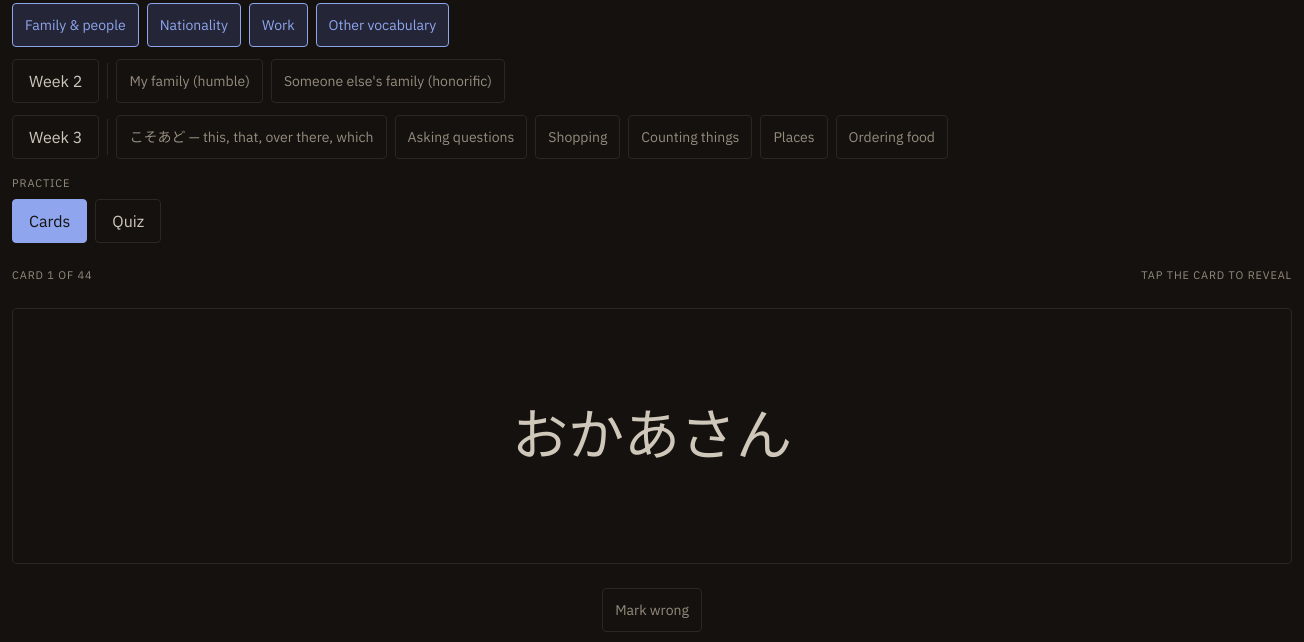
Test: Vocabulary flashcards › starts each new card face down
This screenshot has width=1304, height=642.
Click the button "おかあさん おかあさん okaasan Mom" at (652,436), box [12,308,1292,564]
(page scrolled)
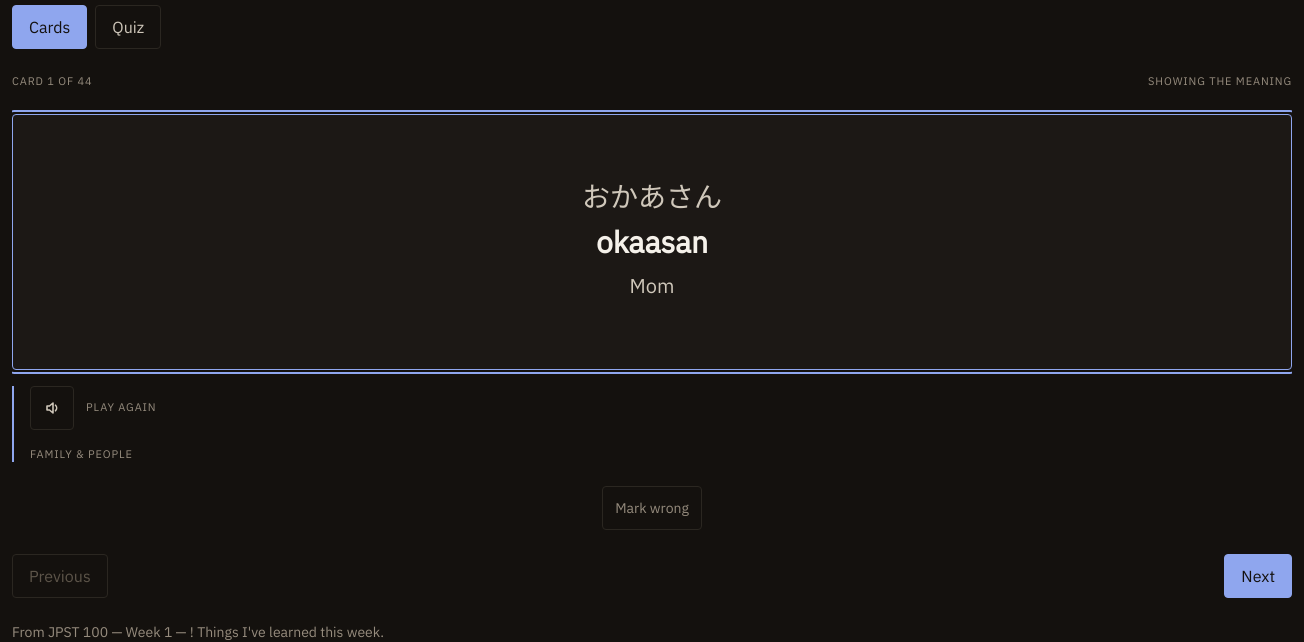
Click the button "Next" at (1258,576), box [1224,554,1292,598]
(page scrolled)
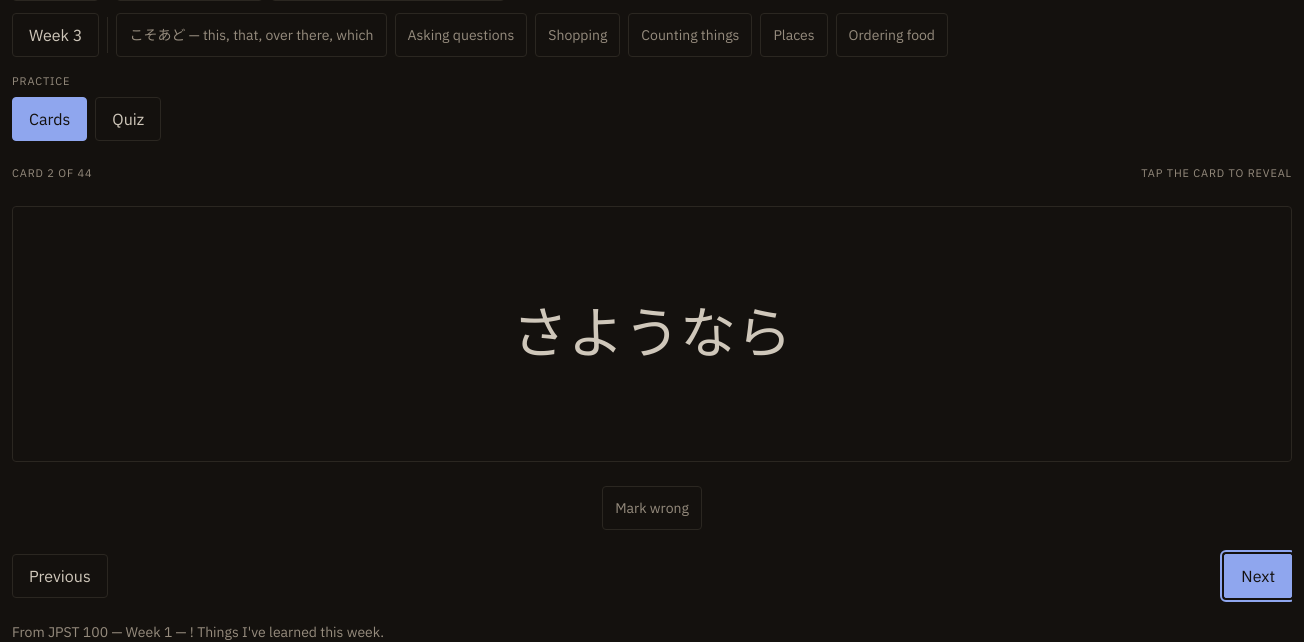
Expected: the button "おかあさん おかあさん okaasan Mom" is gone
